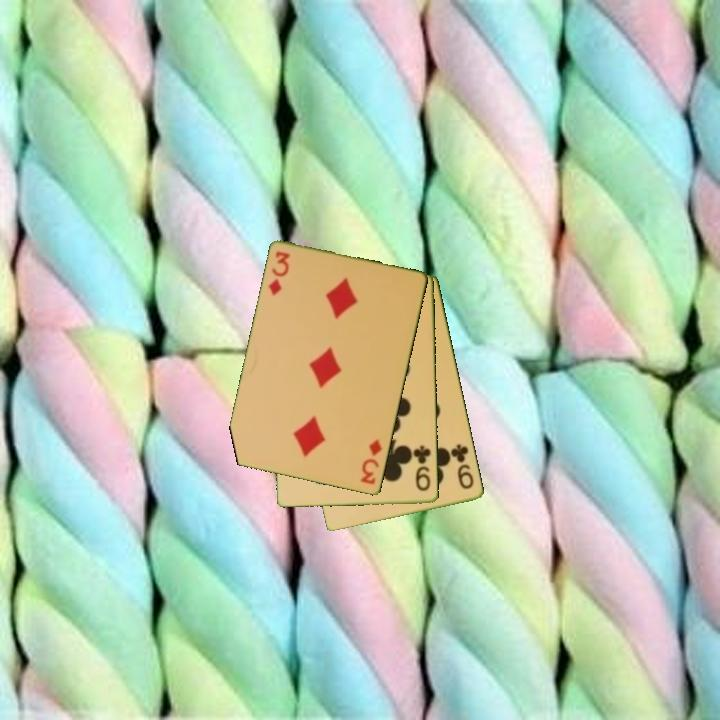3d: (357, 436, 385, 488), (265, 248, 293, 299)
9c: (448, 440, 477, 492), (411, 442, 434, 494)
